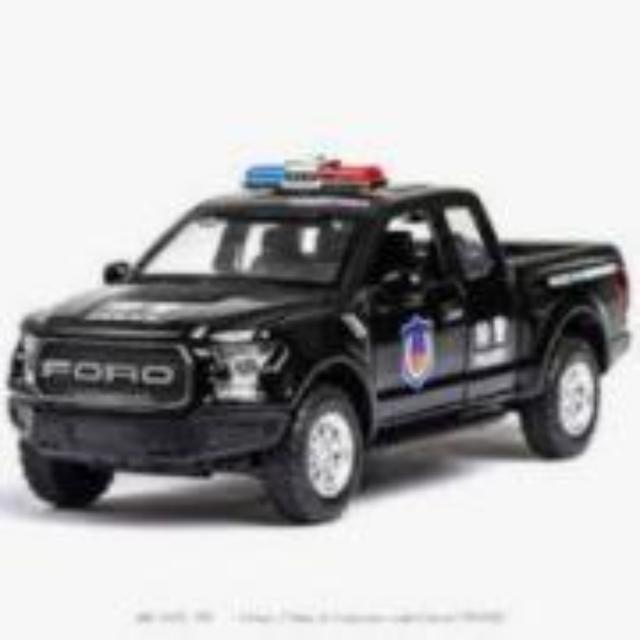police: (0, 153, 636, 526)
